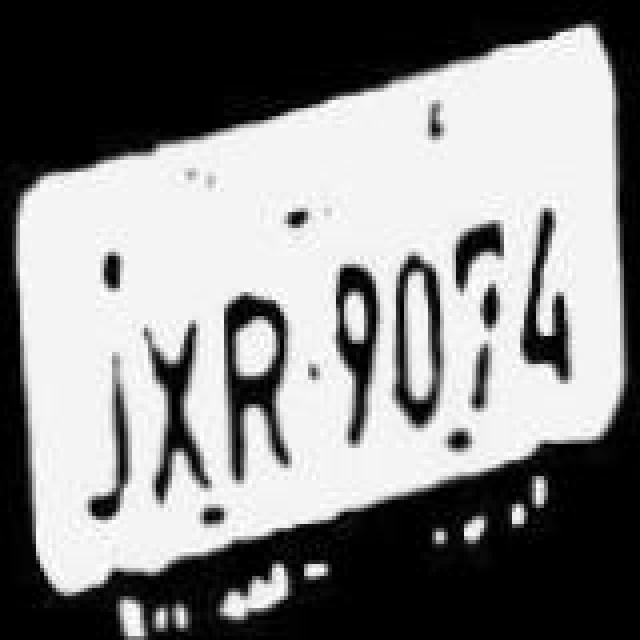4: (512, 186, 600, 418)
7: (446, 174, 522, 418)
9: (322, 230, 398, 466)
J: (76, 286, 144, 526)
O: (386, 214, 454, 438)
R: (218, 240, 310, 484)
X: (138, 278, 226, 506)
